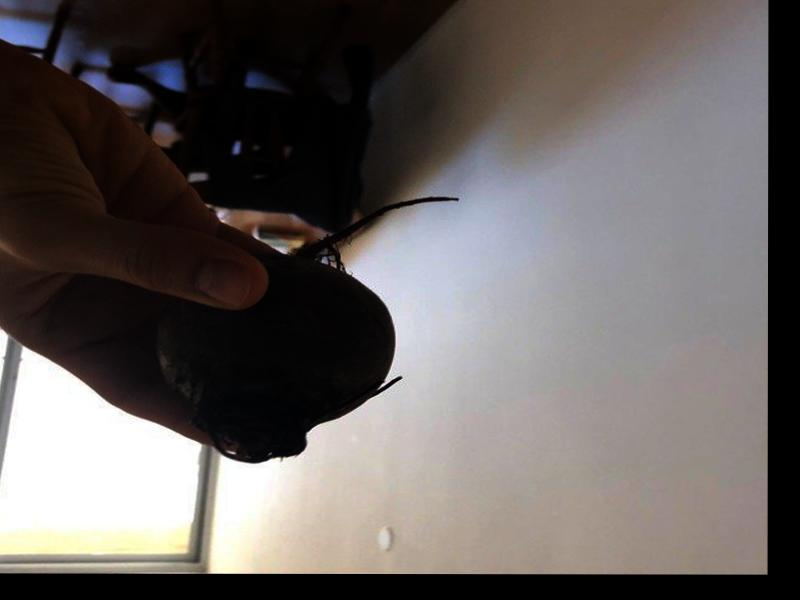Beet: (156, 197, 461, 463)
